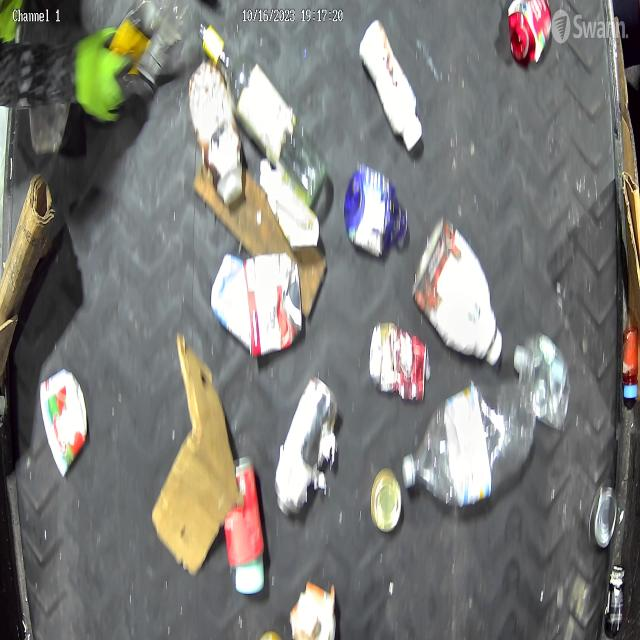can: (273, 373, 338, 518), (242, 251, 306, 360), (223, 456, 266, 574), (368, 326, 431, 403), (370, 466, 404, 535), (589, 481, 618, 552)
plastic_bottle: (194, 18, 327, 210), (404, 378, 536, 516), (514, 328, 572, 434)
